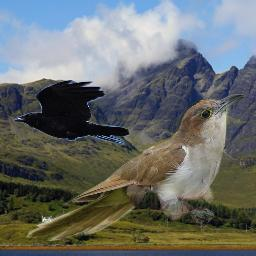Crow: (13, 80, 130, 145)
Cuckoo: (25, 92, 245, 241)
